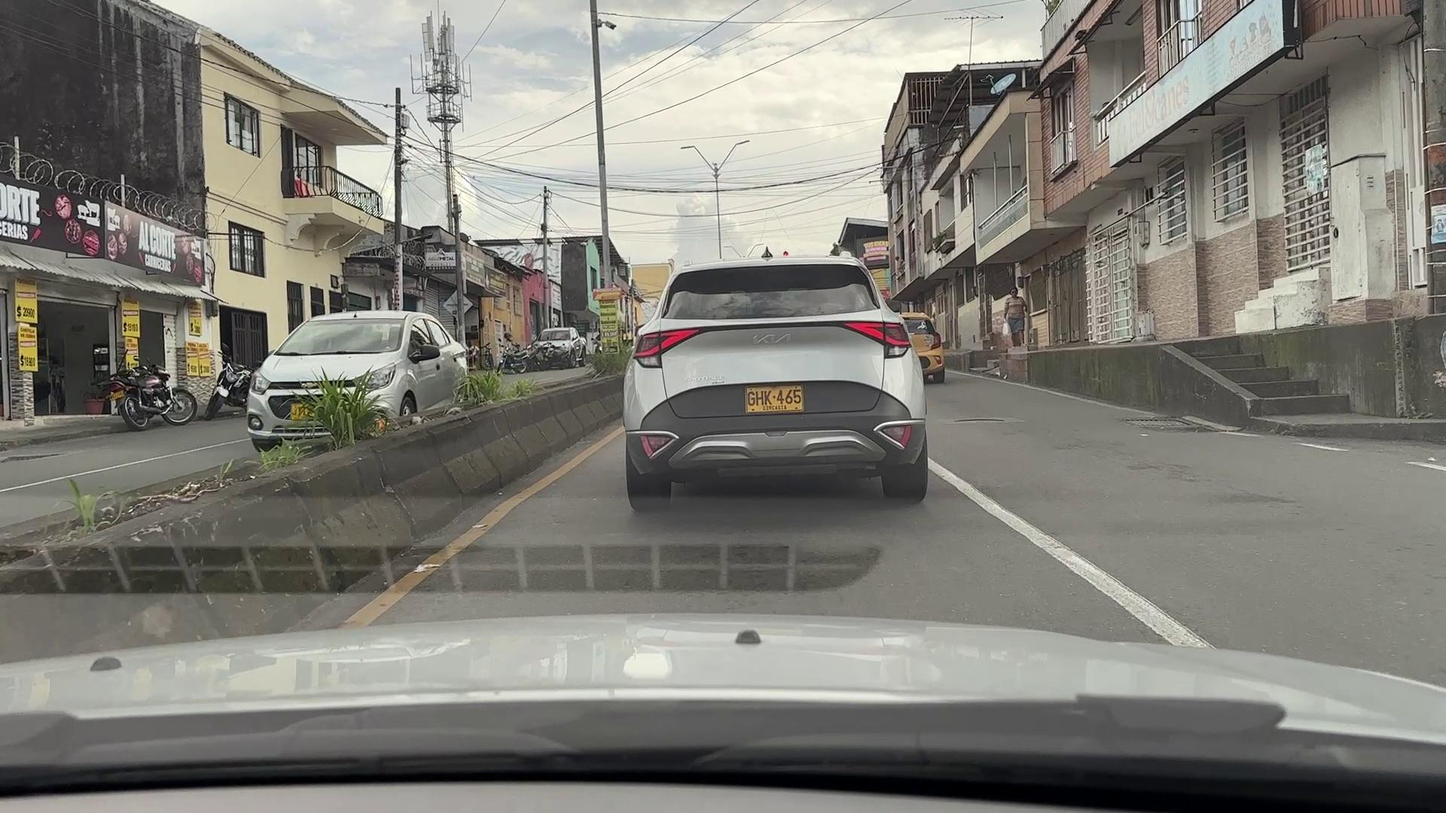registro: (954, 419, 1005, 422)
rejilla: (1121, 418, 1221, 433)
